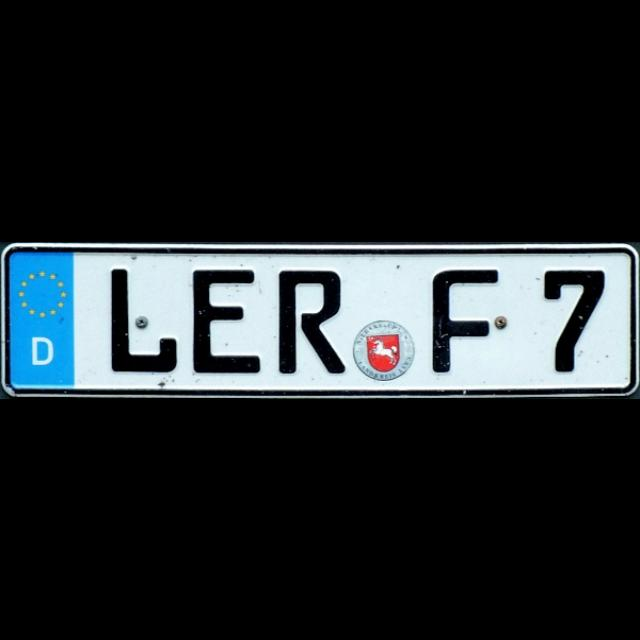d_license_plate: (5, 245, 633, 391)
